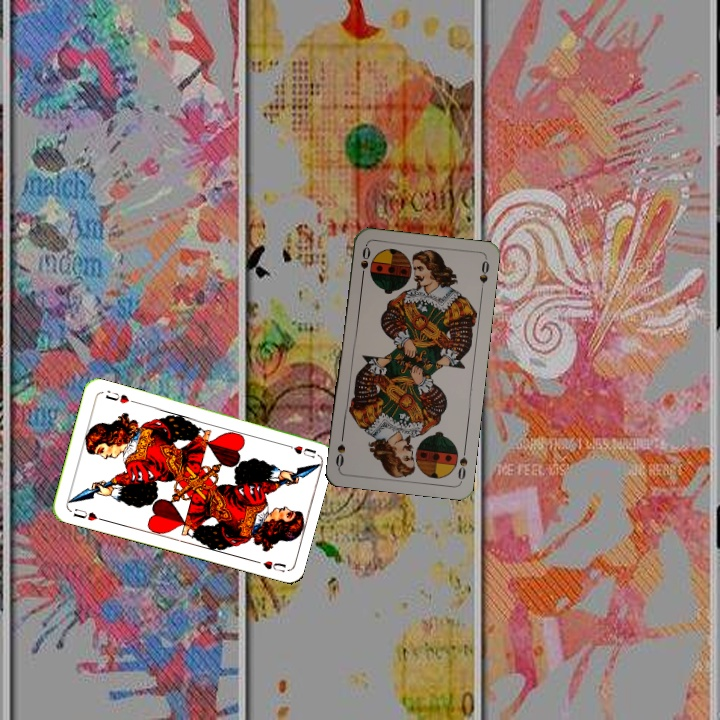HU: (279, 440, 318, 460), (69, 504, 106, 524)
SO: (356, 242, 373, 283), (453, 443, 470, 484)
